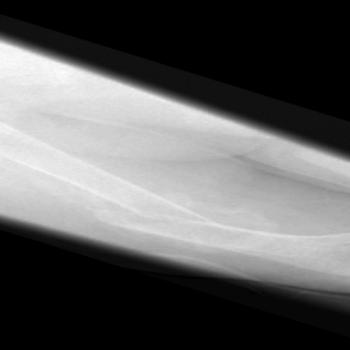Fracture: (93, 204, 232, 236)
